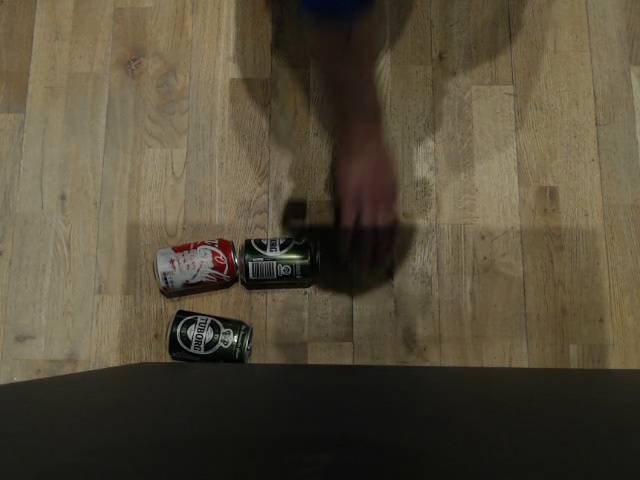beer: (160, 310, 255, 364)
cola: (132, 232, 224, 294)
